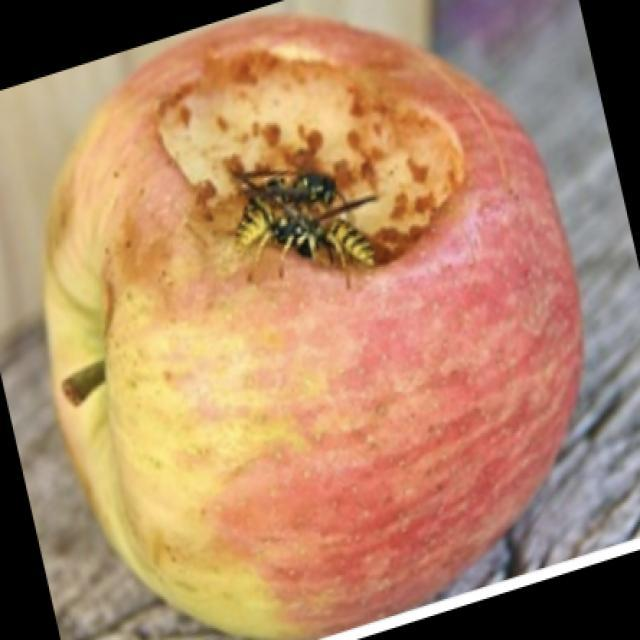Rotten: (36, 16, 581, 640)
